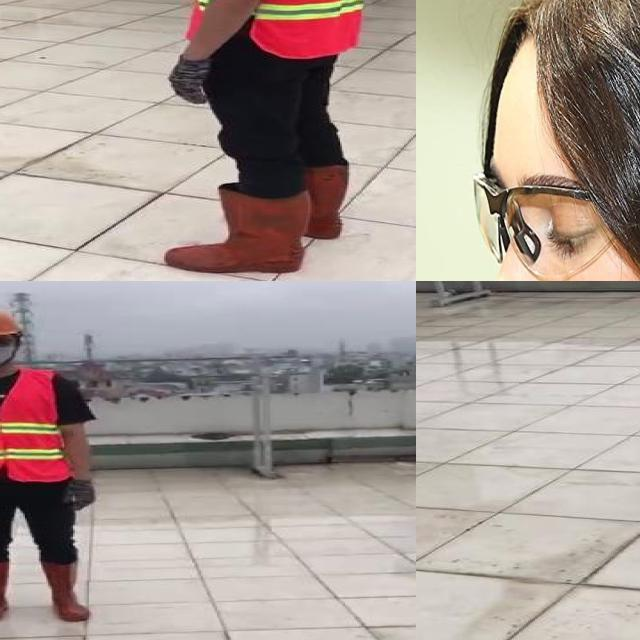Ear-protection: (577, 0, 640, 281)
boots: (164, 189, 319, 274), (256, 163, 354, 244), (39, 560, 93, 623), (0, 563, 14, 624)
face_mask: (0, 333, 18, 368)
glasses: (463, 166, 640, 281), (0, 333, 18, 349)
hand_glove: (170, 53, 210, 108), (64, 480, 96, 512)
head_helmet: (0, 306, 18, 337)
person: (148, 0, 385, 278), (0, 304, 105, 629)
vest: (184, 0, 374, 57), (0, 369, 69, 484)
